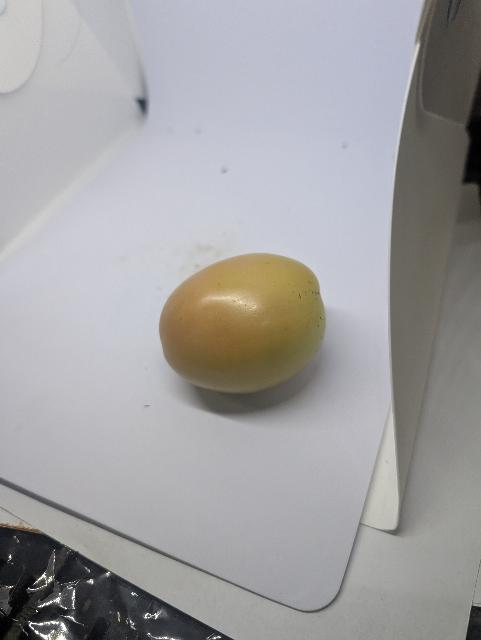breaker: (160, 253, 326, 393)
